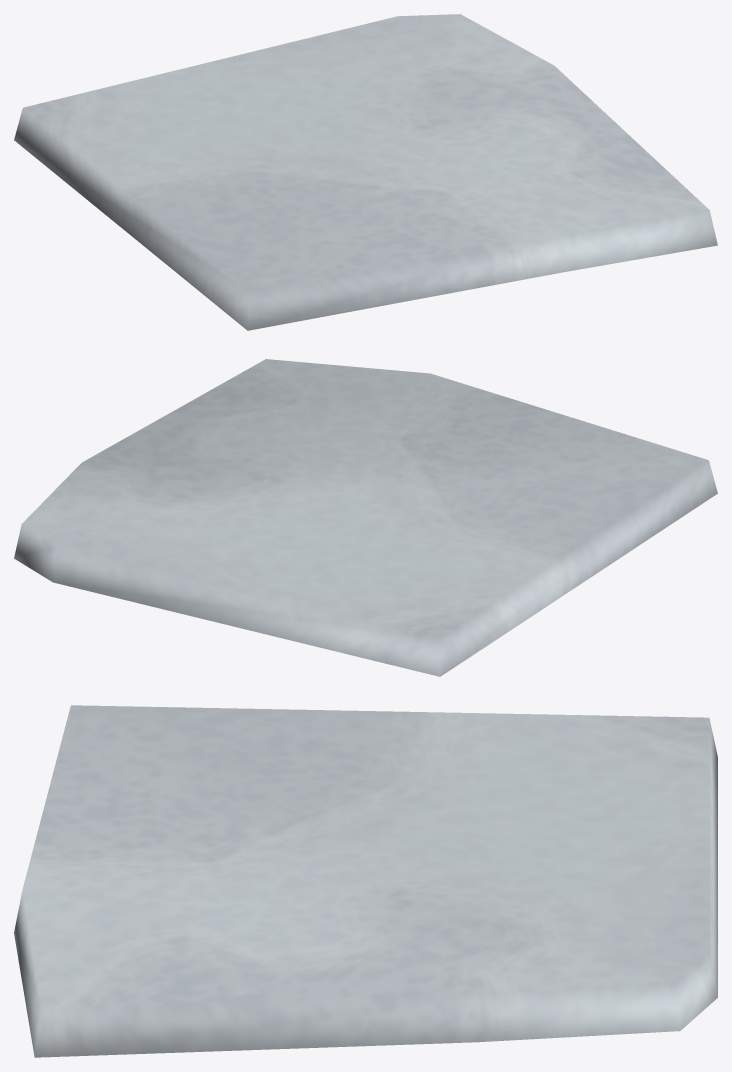
File: Temple_Stone_1_Snow.fbx
3 renders of one model, top to bottom at view 1: azimuth 30°, elevation 25°; view 2: azimuth 150°, elevation 25°; view 3: azimuth 270°, elevation 25°, orthographic. The views are drawn at different scales.
Visible parts, largest first — view 1: Temple_Stone_1_Snow; view 2: Temple_Stone_1_Snow; view 3: Temple_Stone_1_Snow.
Part boxes in pixels (left/top/right/bottom): Temple_Stone_1_Snow: left=14, top=14, right=717, bottom=330; Temple_Stone_1_Snow: left=14, top=359, right=717, bottom=676; Temple_Stone_1_Snow: left=14, top=705, right=717, bottom=1057.
Bounding box in the file's own units: 214 × 22.69 × 214.
